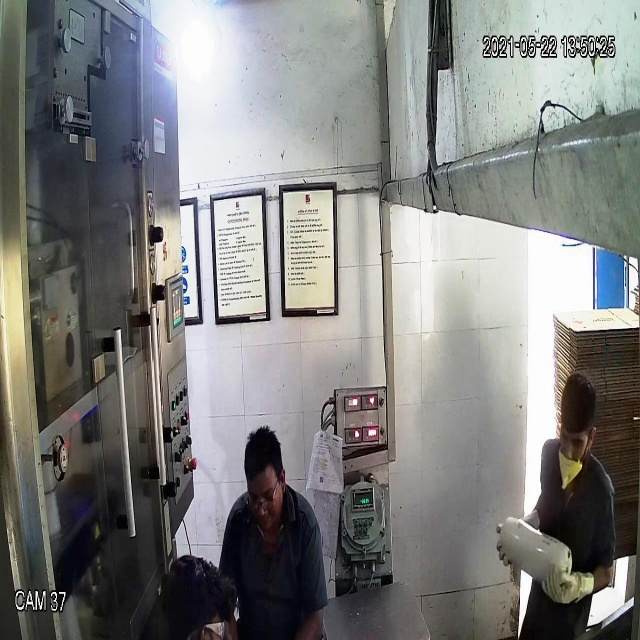Gafas: (242, 482, 286, 517)
Sin_gafas: (552, 420, 592, 459)
